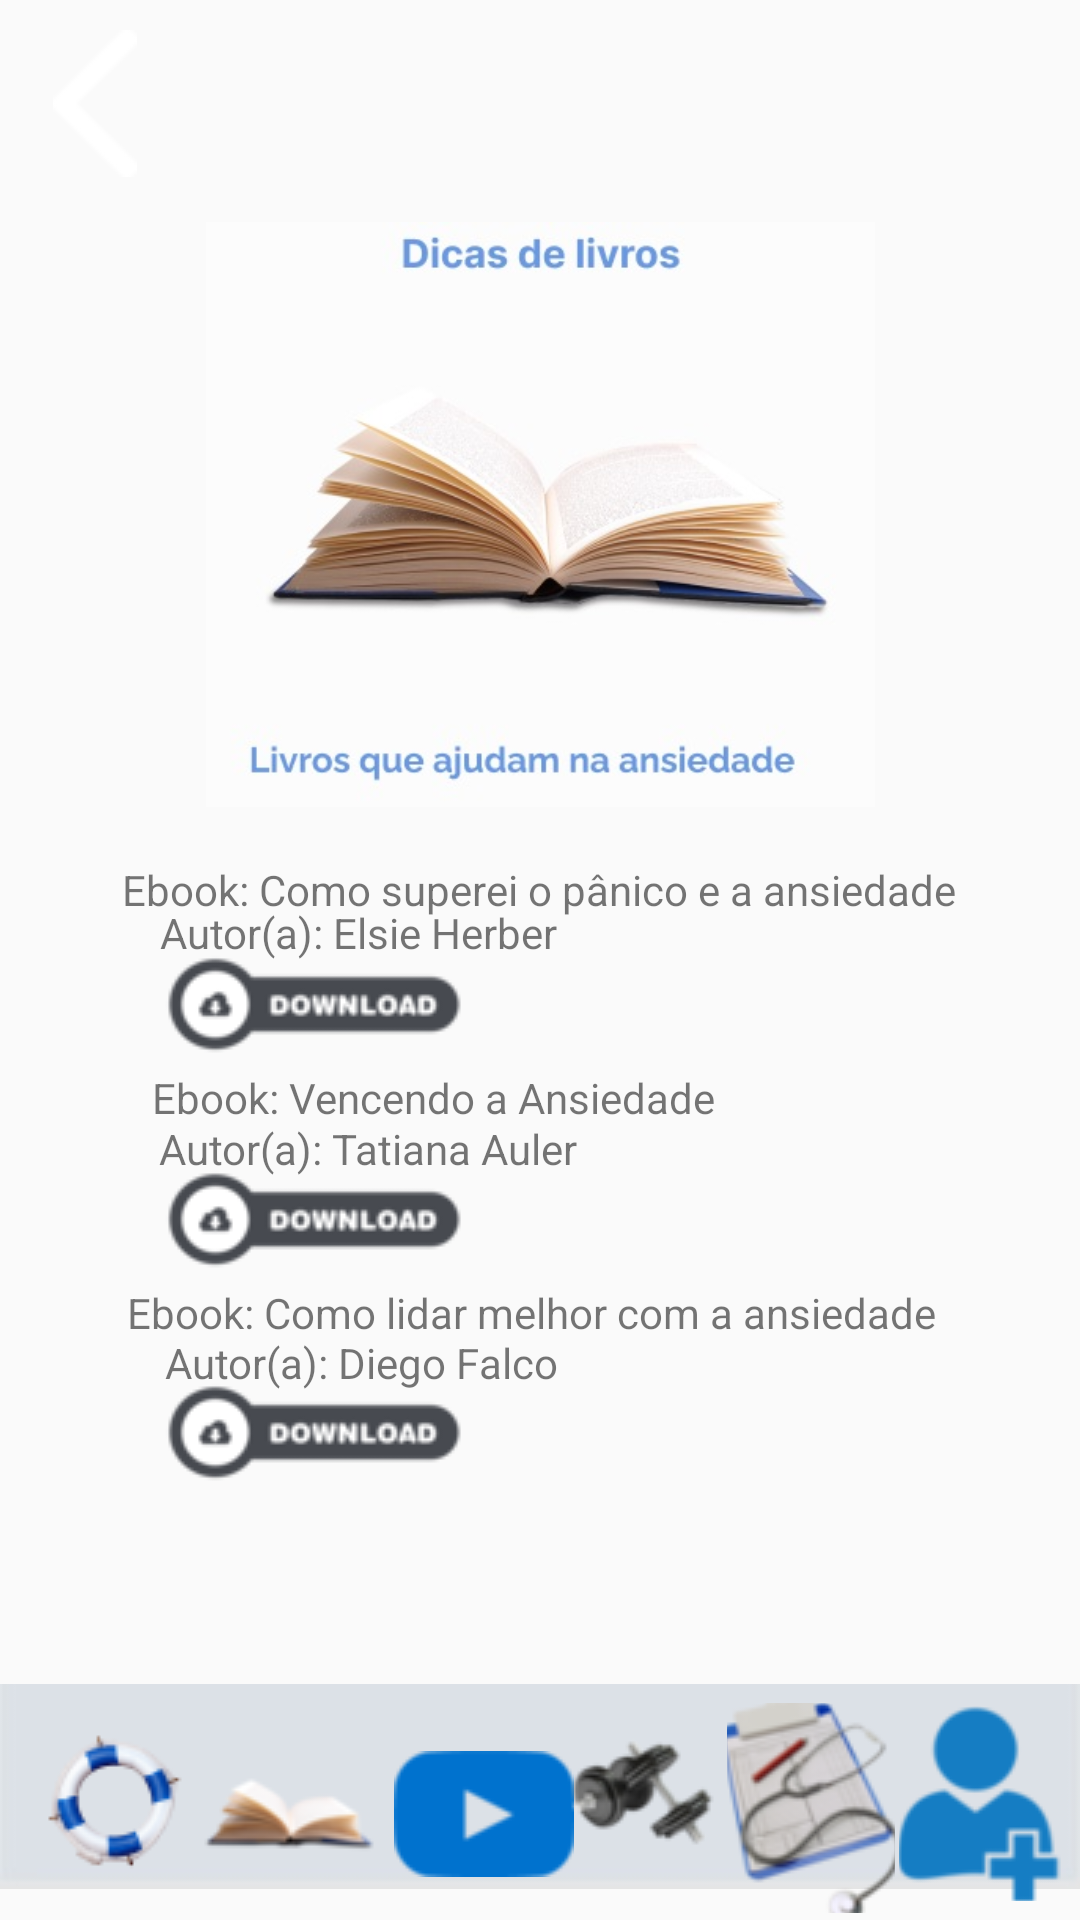

Screen size 1080px x 1920px. Icon name, then its center in pixels as point (x, y):
ajudabotao: point (114, 1800)
iconecadastromenu: point (981, 1804)
iconepalylistmenu: point (484, 1814)
iconexerciciosmenu: point (638, 1799)
